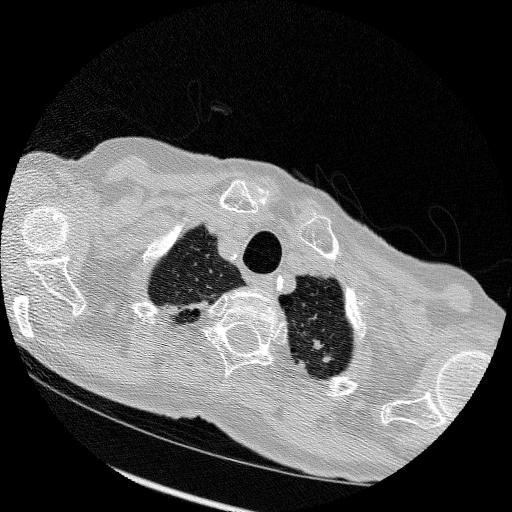nodule: (309, 337, 324, 352)
